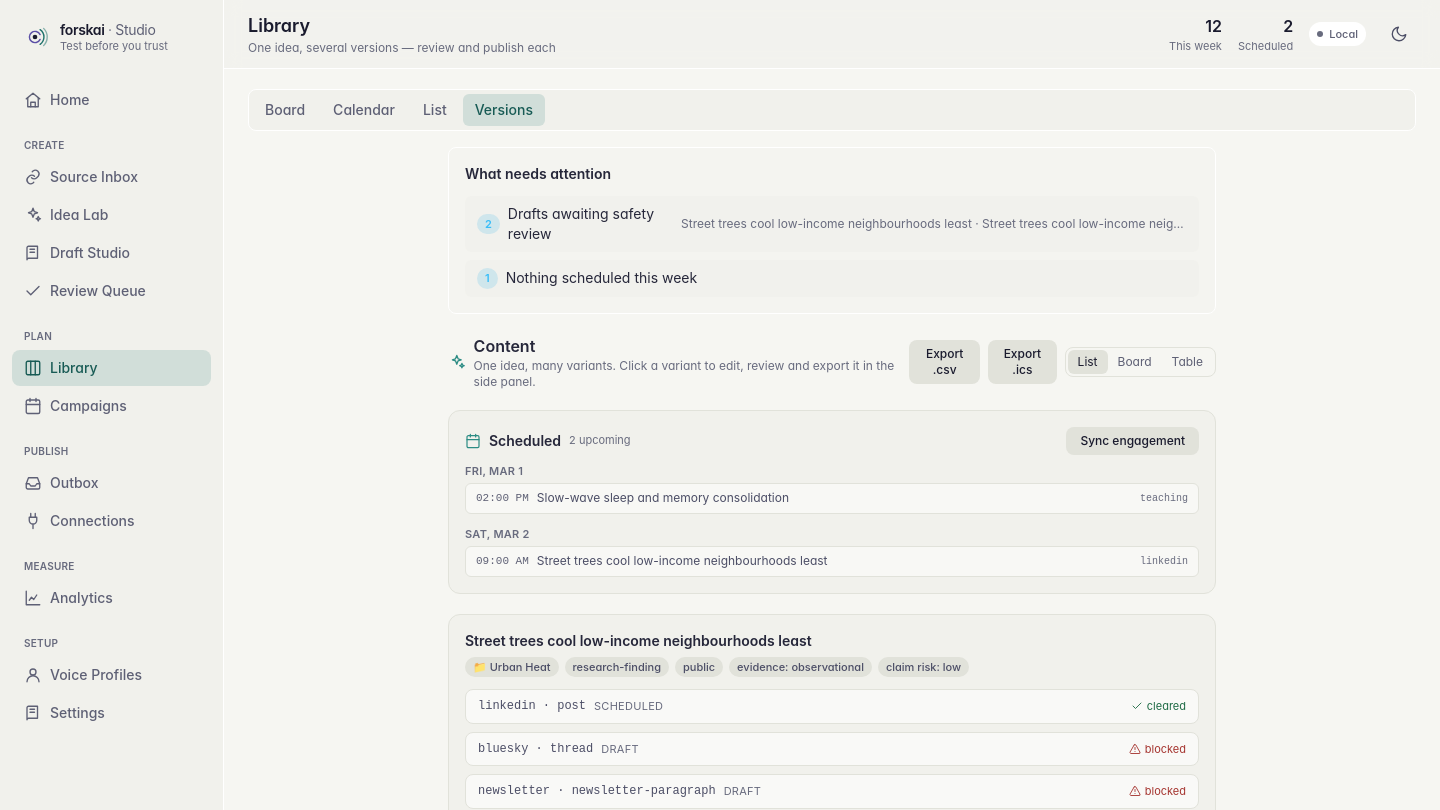
Content view + editor drawer › shows scheduled variants in the agenda and opens one in the drawer
Click the button with test id "agenda-entry" at (502,498), box [465,483,1199,514]
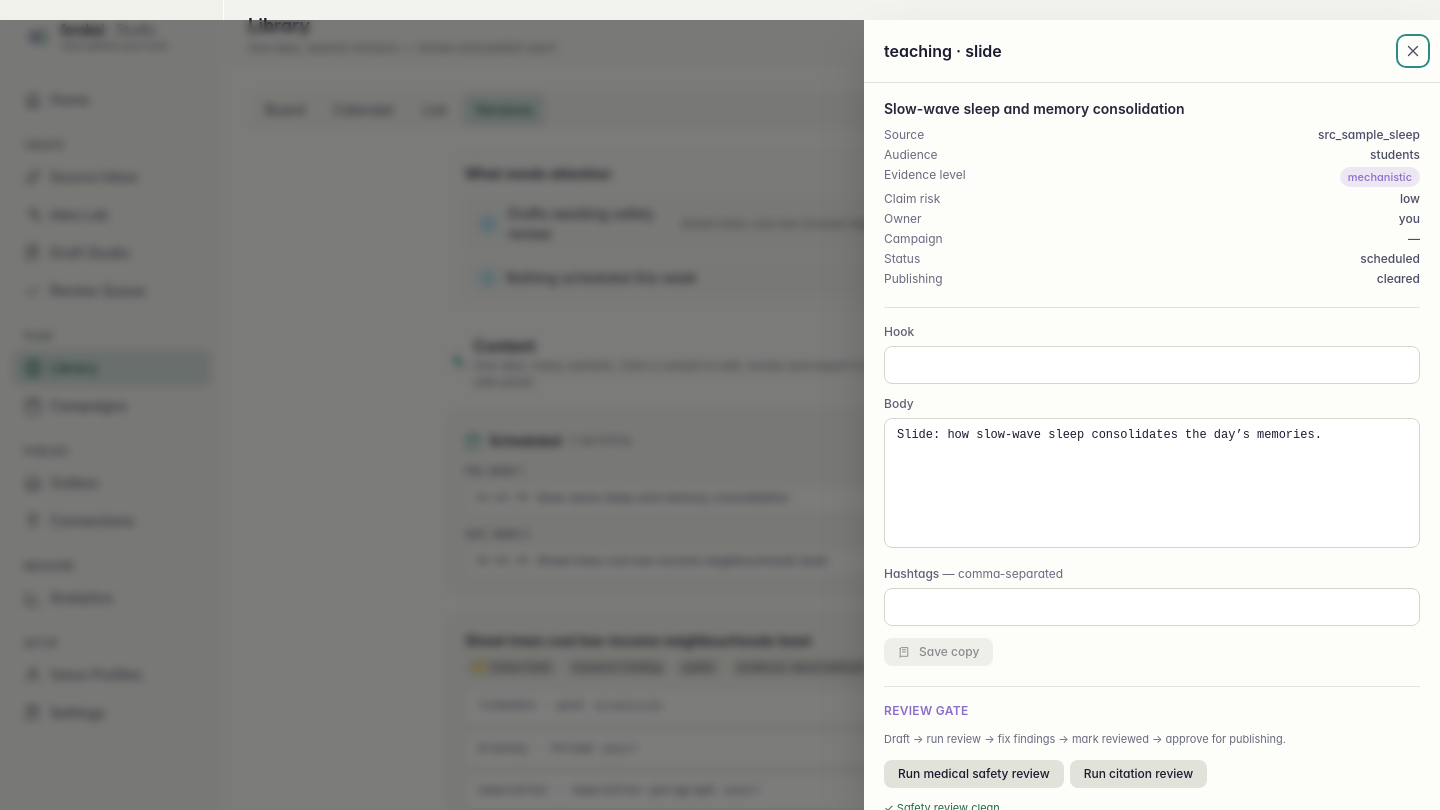
Result: the dialog "teaching · slide" is shown at [864,20,1439,809]
